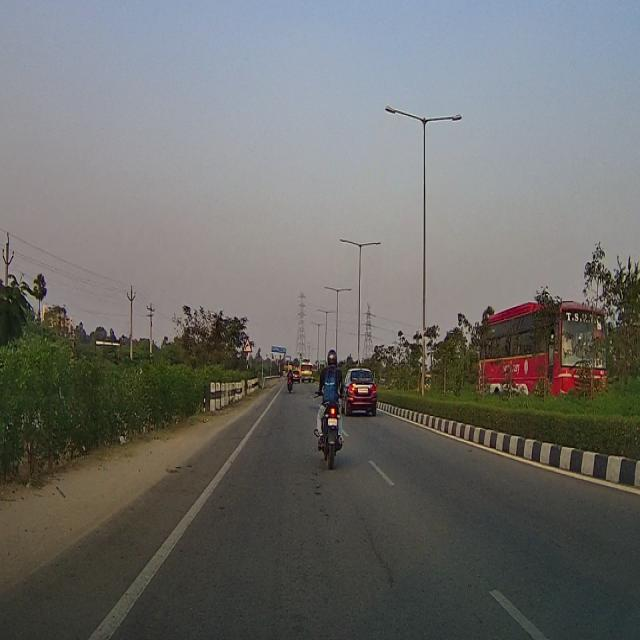right-hand-curve: (243, 336, 251, 351)
